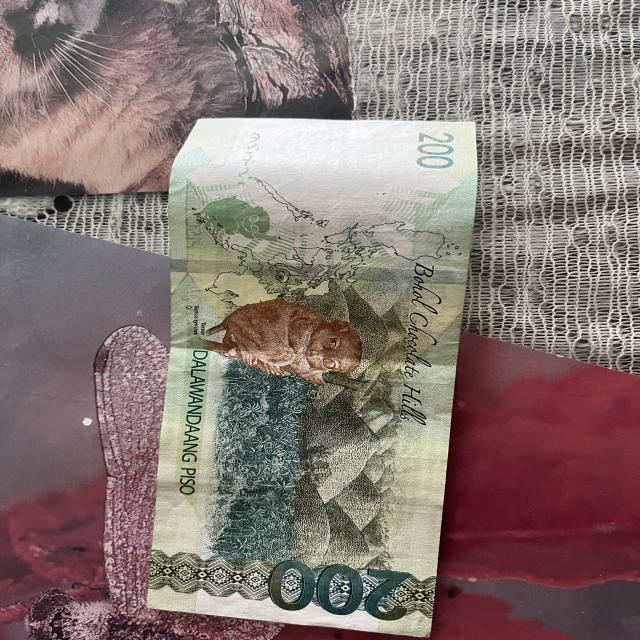200_tarsier: (179, 296, 411, 394)
200_tarsier_watermark: (197, 188, 294, 254)
value_watermark: (288, 122, 343, 155)
